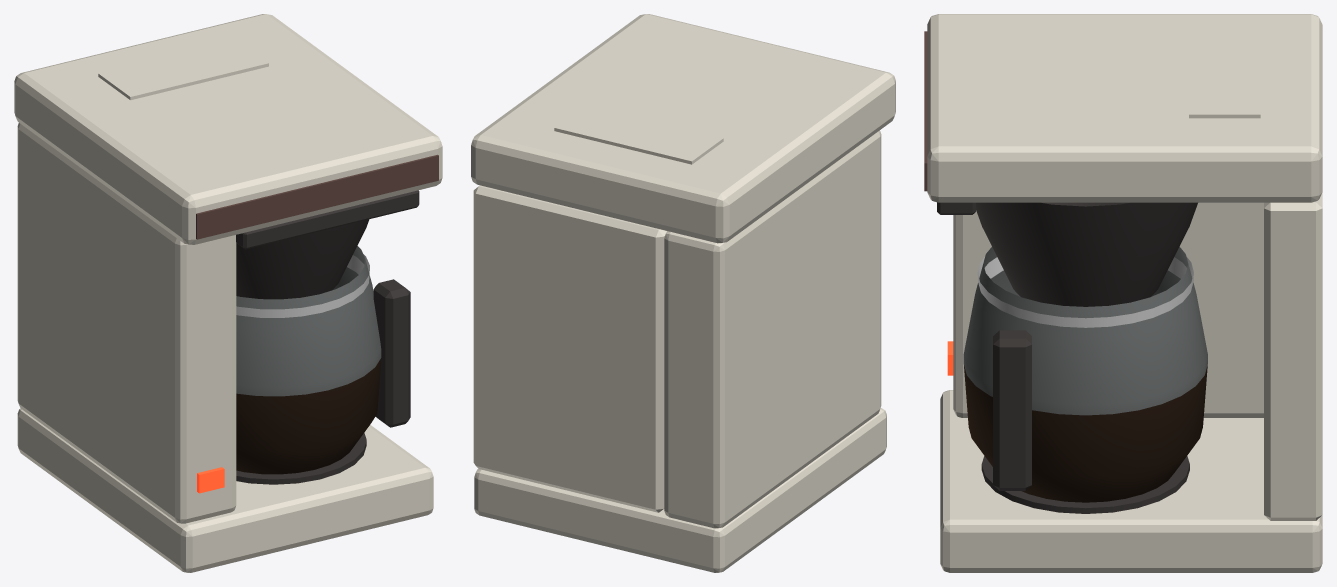
Rendered from coffee_maker.glb.
3 renders of one model, left to right at view 1: azimuth 30°, elevation 25°; view 2: azimuth 150°, elevation 25°; view 3: azimuth 270°, elevation 25°, orthographic. The views are drawn at different scales.
Parts seen in each view (by area): view 1: coffee_maker; view 2: coffee_maker; view 3: coffee_maker.
Part boxes in pixels (x1=…): coffee_maker: x1=14, y1=14, x2=442, y2=572; coffee_maker: x1=471, y1=14, x2=895, y2=572; coffee_maker: x1=924, y1=14, x2=1322, y2=572.
Size of the model in its own units: 0.206 by 0.2925 by 0.2447.
